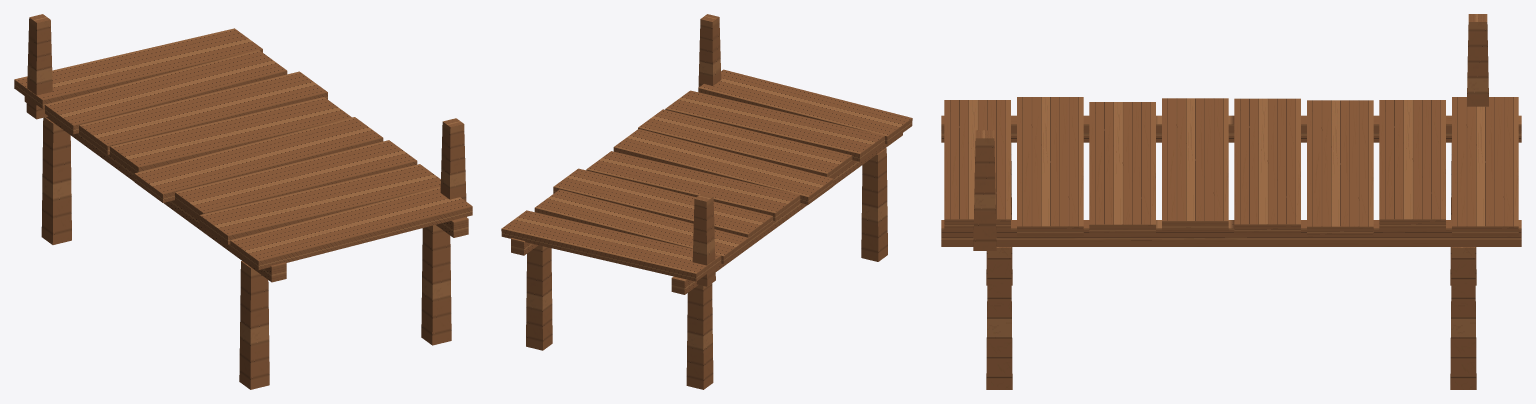
File: boardwalk.glb
3 renders of one model, left to right at view 1: azimuth 30°, elevation 25°; view 2: azimuth 150°, elevation 25°; view 3: azimuth 270°, elevation 25°, orthographic. The views are drawn at different scales.
Parts seen in each view (by area): view 1: boardwalk; view 2: boardwalk; view 3: boardwalk.
Boxes of the visible parts, x1,y1,x2,y2 form: boardwalk: [14, 14, 472, 389]; boardwalk: [501, 14, 912, 389]; boardwalk: [941, 14, 1521, 389].
Size of the model in its own units: 2.12 by 1.95 by 4.
1 material, 1 textured.
